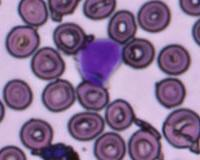L: (76, 37, 124, 86)
